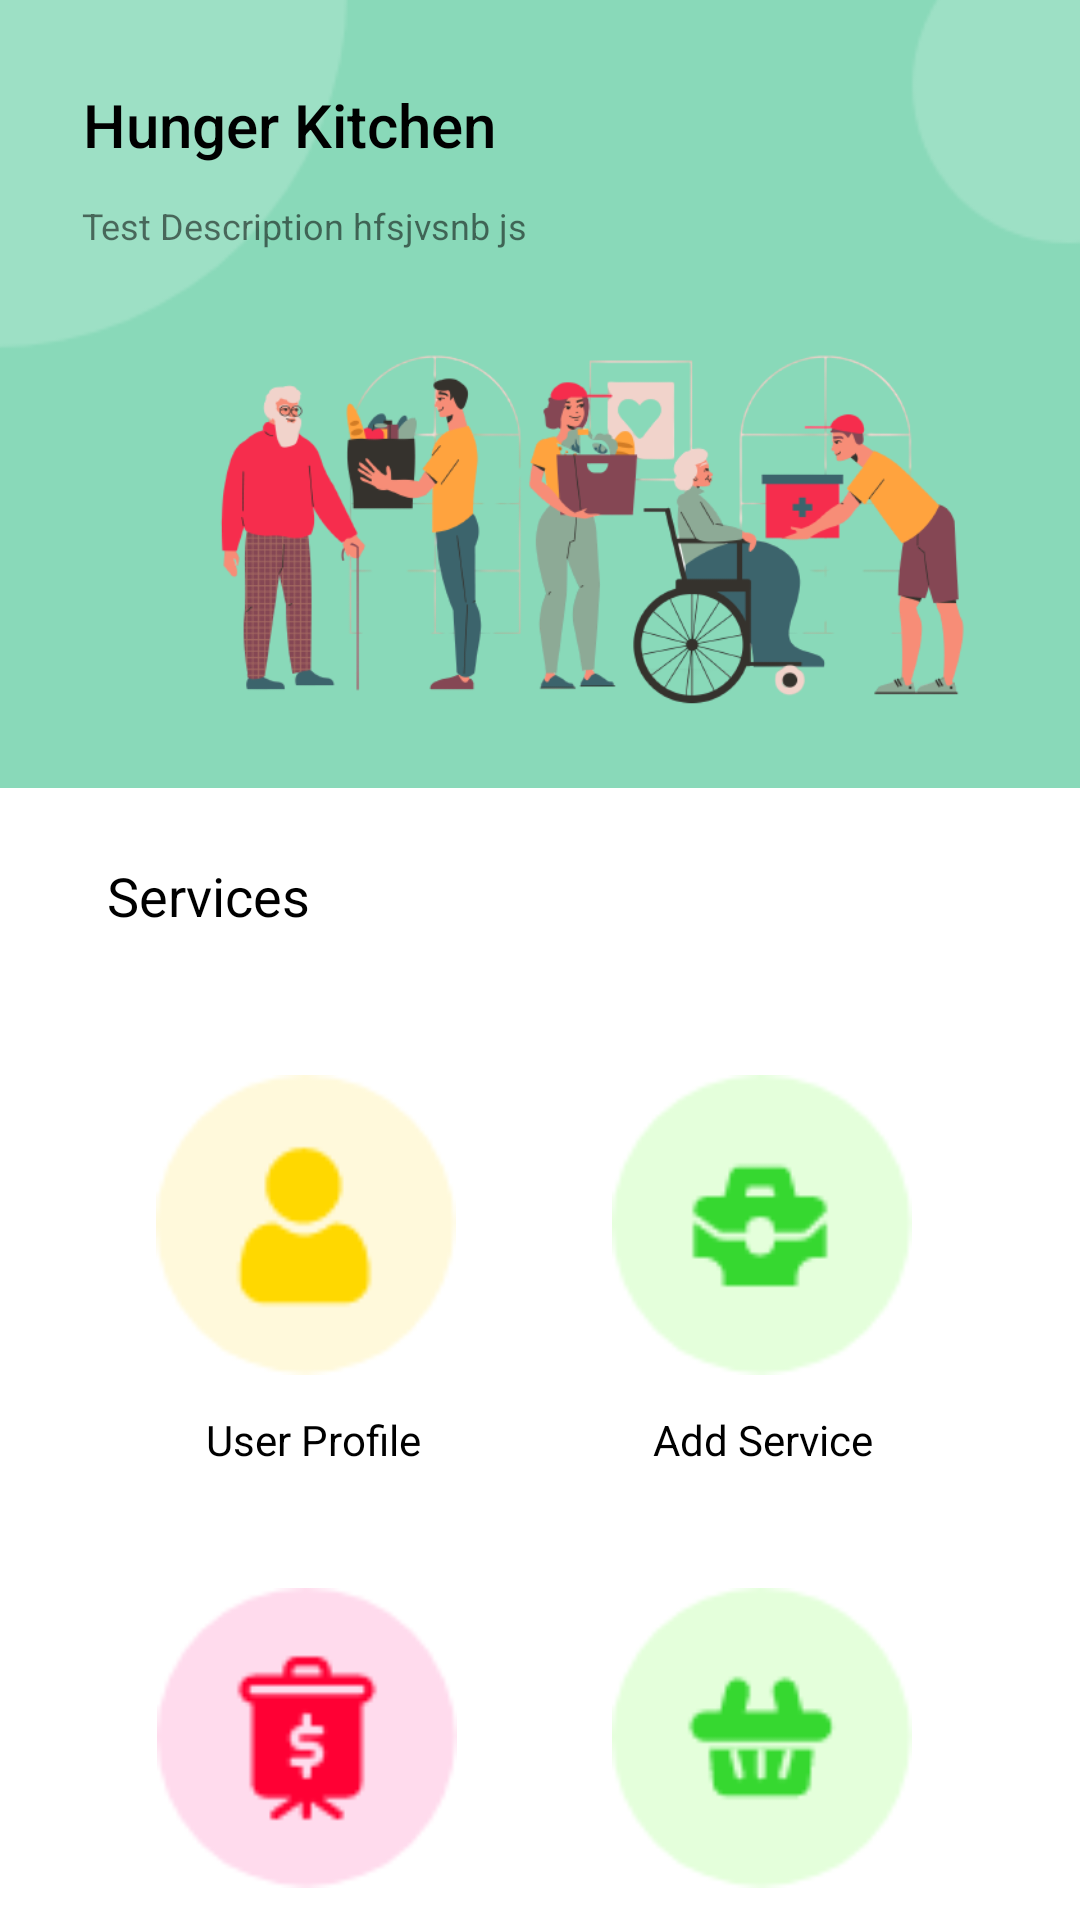

Icons on this 1080w x 1920h Android screen, each with its box as rect(x1, y1, x2, y2):
dash funds: rect(157, 1588, 455, 1888)
dash inventory: rect(612, 1588, 910, 1888)
